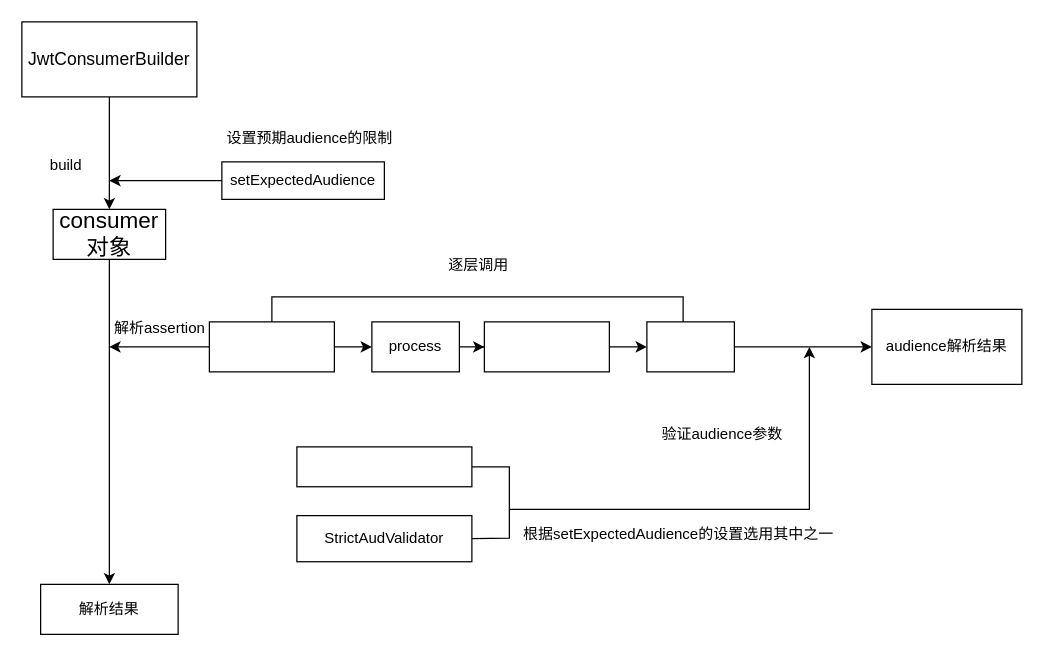
Some shapes in this 1044 by 656 pixel diagram are drawn without their labels. Here are the shapes that lost their labels. From the top down, the centre of each, then its label:
At (x=271, y=346): "processToClaims".
At (x=546, y=346): "processContext".
At (x=690, y=346): "validate".
At (x=384, y=466): "GeneralAudValidator".
